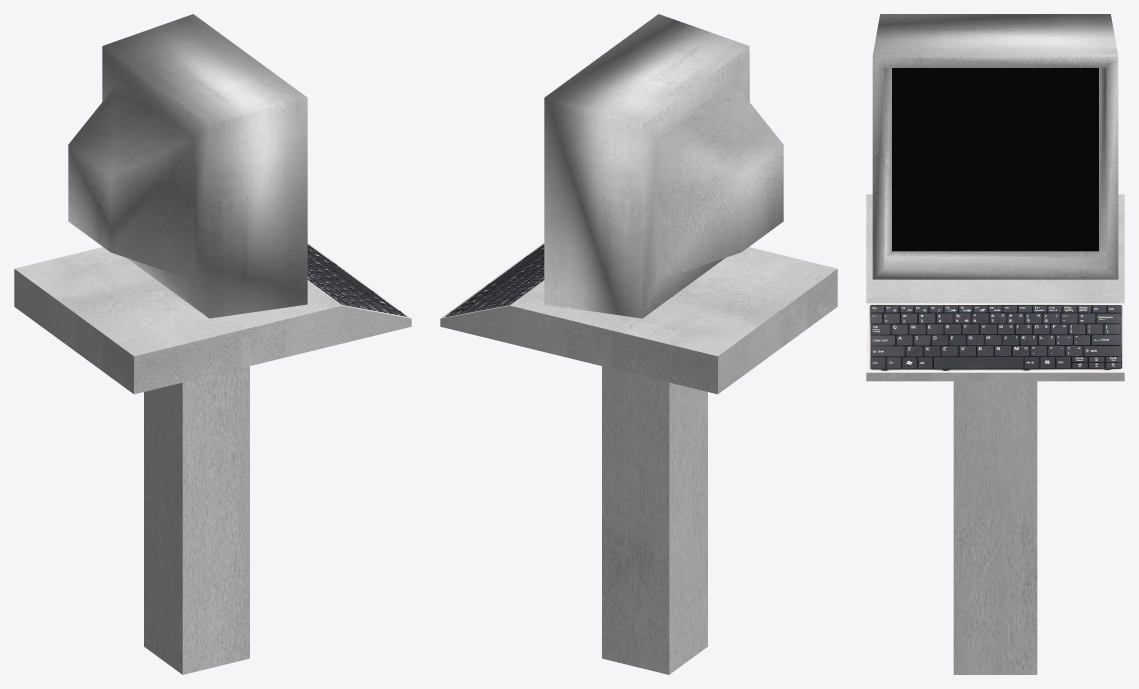
File: terminal.dae
3 views of the same model, side by side, from view 1: azimuth 30°, elevation 25°; view 2: azimuth 150°, elevation 25°; view 3: azimuth 270°, elevation 25° (orthographic). The views are drawn at different scales.
Visible parts, largest first — view 1: Monitor, Pillar, Stand; view 2: Monitor, Pillar, Stand; view 3: Monitor, Stand, Pillar.
Boxes of the visible parts, <box> form: Monitor: <box>68,14,307,318</box>; Pillar: <box>144,366,249,674</box>; Stand: <box>14,243,411,394</box>; Monitor: <box>544,14,783,318</box>; Pillar: <box>602,366,707,674</box>; Stand: <box>440,243,837,394</box>; Monitor: <box>872,14,1118,279</box>; Stand: <box>866,194,1124,381</box>; Pillar: <box>953,381,1037,674</box>.
Bounding box in the file's own units: 2.79 × 2.09 × 5.61.
